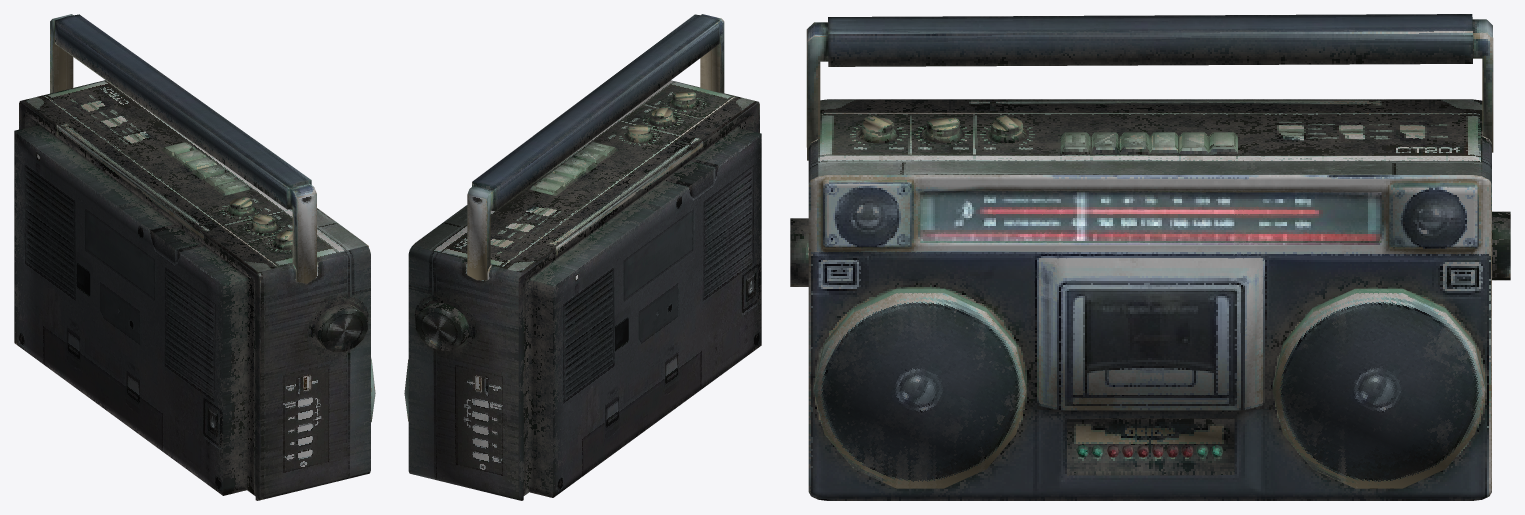
Rendered from radio.glb.
3 views of the same model, side by side, from view 1: azimuth 30°, elevation 25°; view 2: azimuth 150°, elevation 25°; view 3: azimuth 270°, elevation 25° (orthographic). The views are drawn at different scales.
Visible parts, largest first — view 1: radio.001; view 2: radio.001; view 3: radio.001.
Part boxes in pixels (x1,y1,x2,y2): radio.001: (14,14,375,500); radio.001: (404,14,761,500); radio.001: (790,14,1510,500).
Size of the model in its own units: 0.9823 by 2.09 by 3.15.
Materials: 1 (1 with a texture image).
